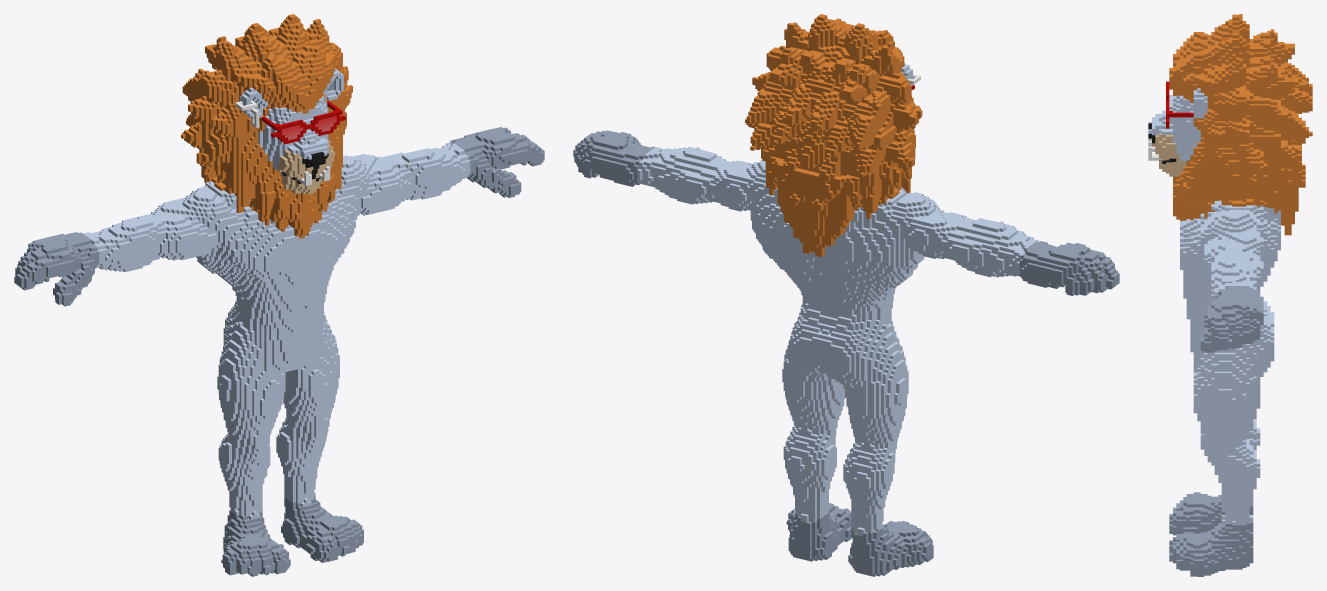
The model's file is 635-bkDRAK_o.glb.
The picture shows the model from 3 angles, left to right: view 1: azimuth 30°, elevation 25°; view 2: azimuth 150°, elevation 25°; view 3: azimuth 270°, elevation 25°; orthographic projection. The views are drawn at different scales.
Parts seen in each view (by area): view 1: ork; view 2: ork; view 3: ork.
Part boxes in pixels (x1,y1,x2,y2): ork: (14, 14, 544, 576); ork: (573, 14, 1119, 576); ork: (1148, 14, 1312, 576).
Size of the model in its own units: 17.2 by 16.5 by 4.7.
Materials: 5 (5 with a texture image).
